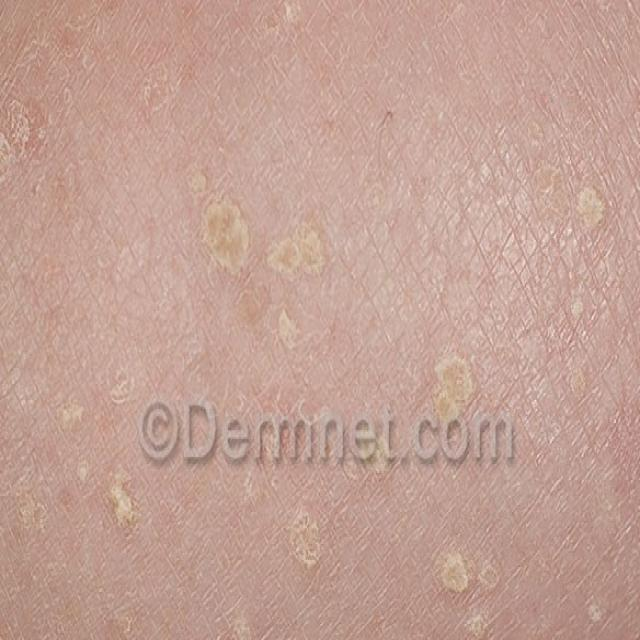Warts: (79, 448, 640, 640), (201, 182, 344, 376), (382, 336, 501, 458), (0, 91, 34, 208), (568, 173, 608, 240)
